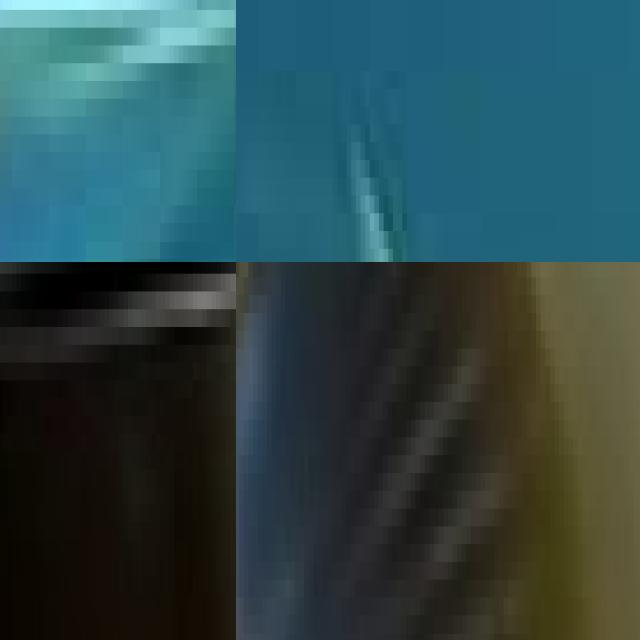fish: (0, 0, 236, 262), (0, 262, 236, 362)
